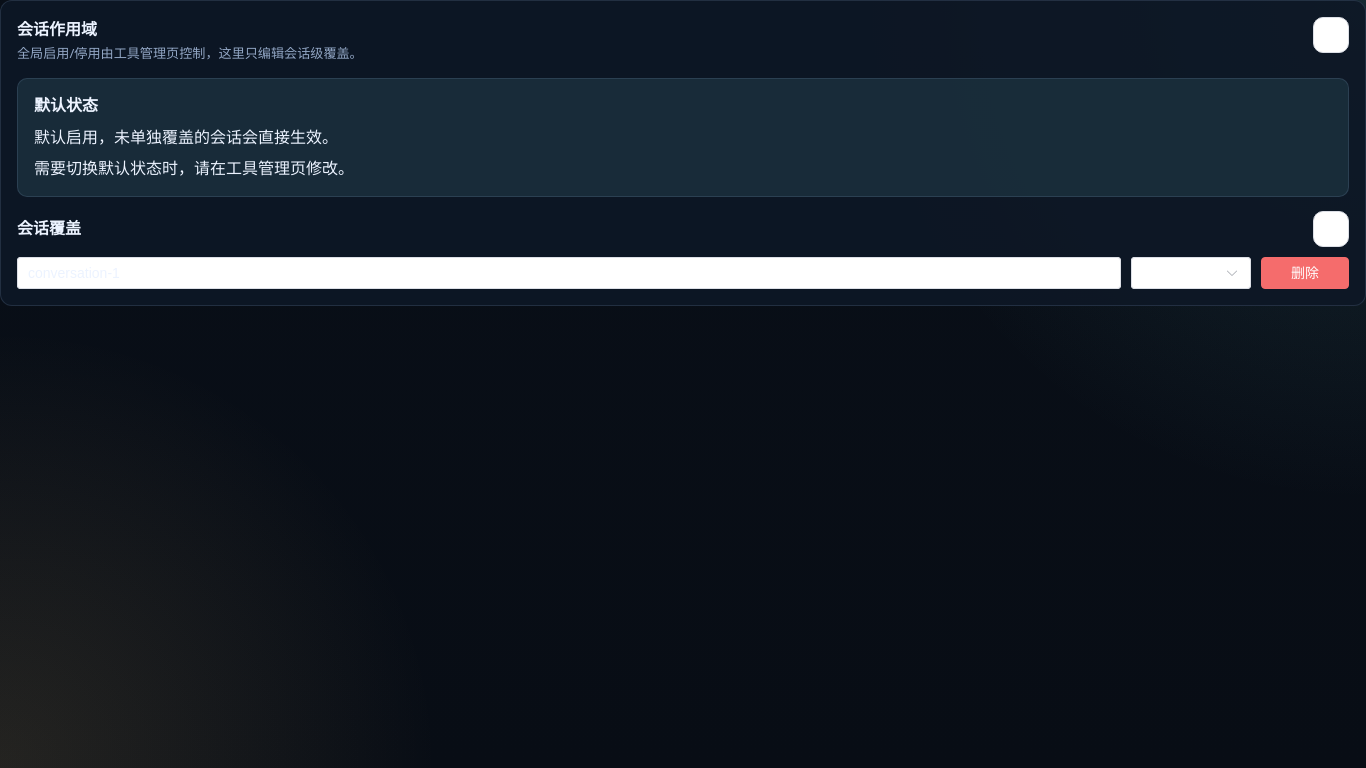
Test: PluginScopeEditor › blocks save when conversation override ids are duplicated
The width and height of the screenshot is (1366, 768).
Click the button with test id "scope-add-row-button" at (1331, 229), box [1313,211,1349,247]
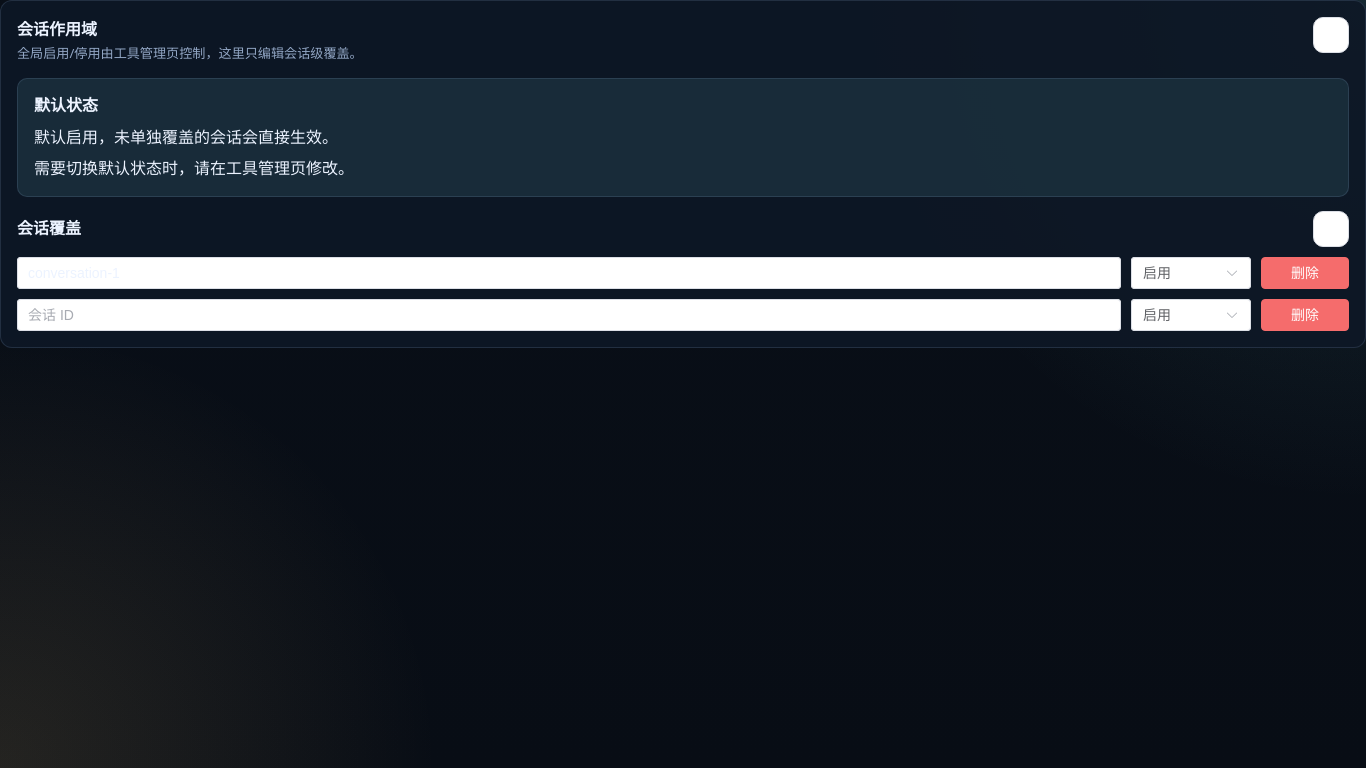
Type "conversation-1" into the field with placeholder "会话 ID" at (569, 315), box [28,300,1110,330]
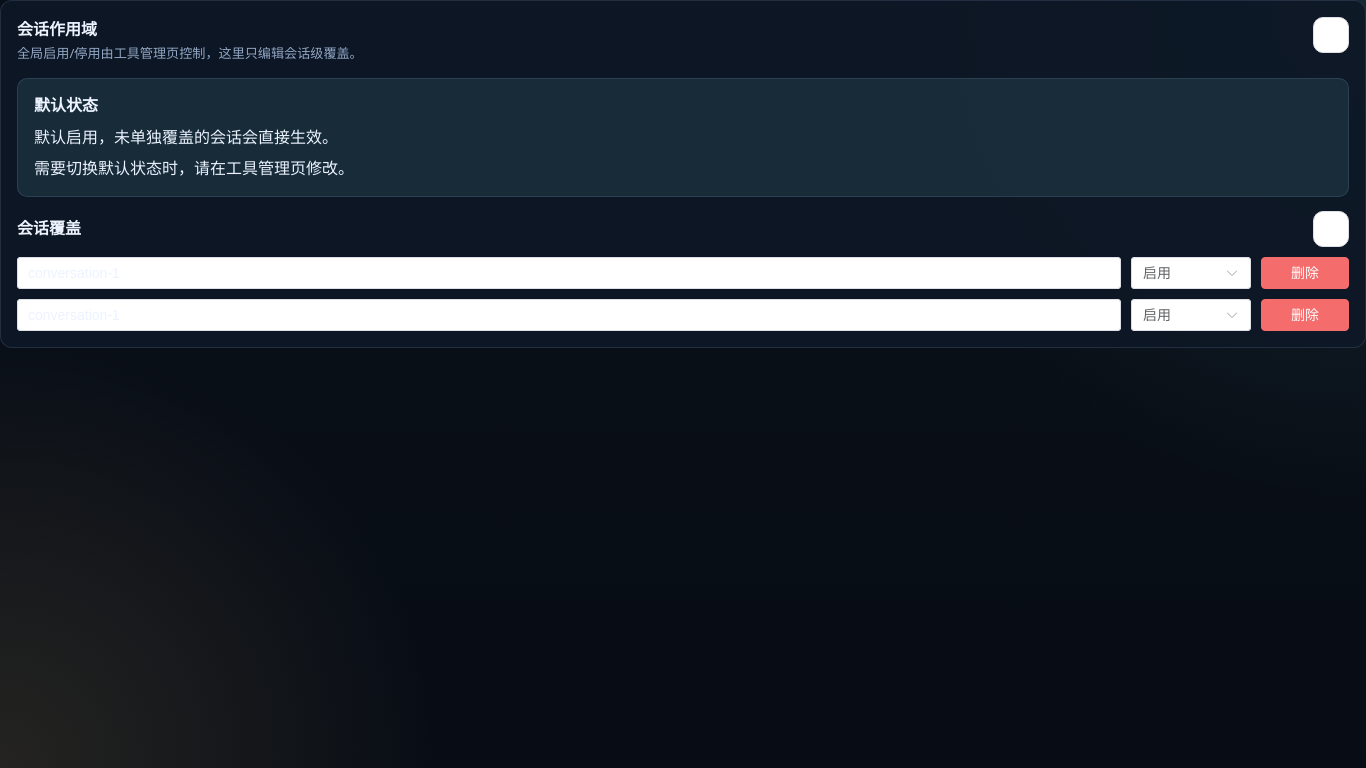
Click the button with test id "scope-save-button" at (1331, 35), box [1313,17,1349,53]
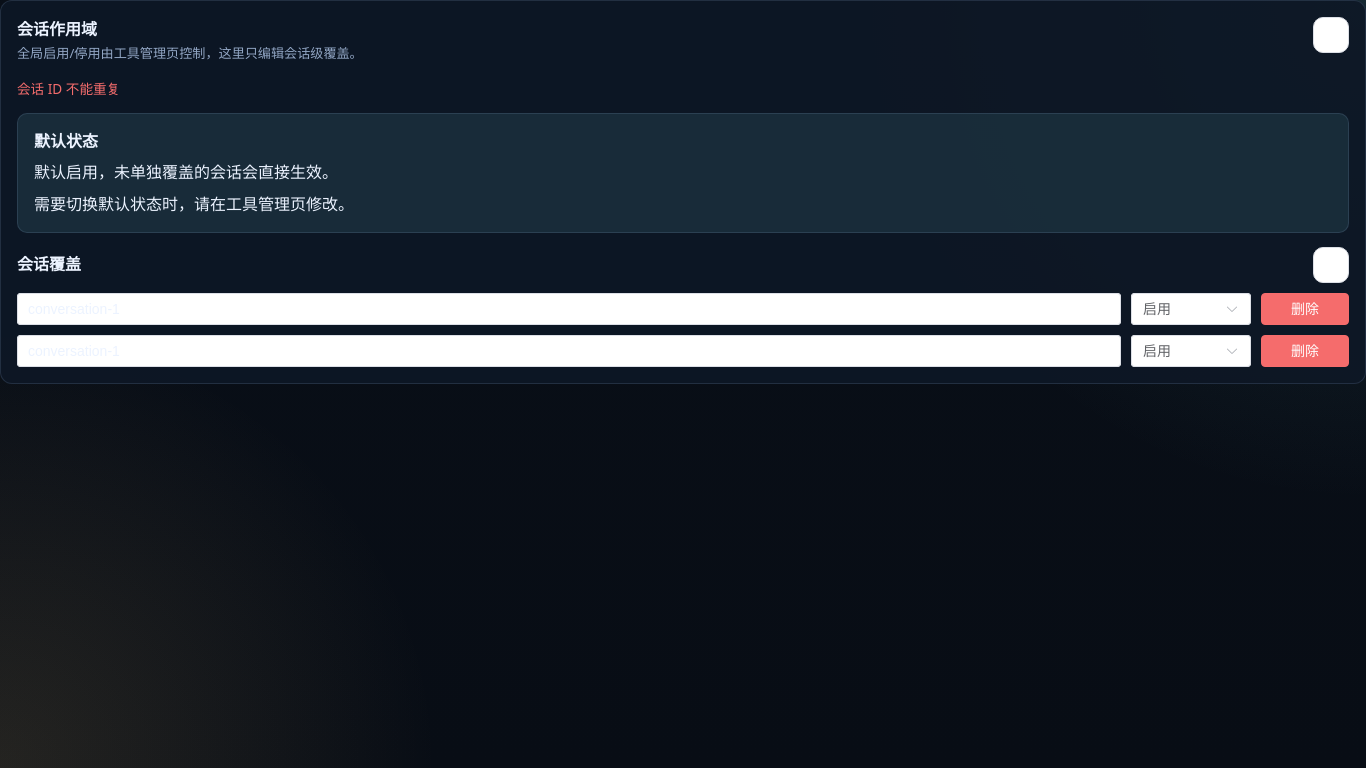
Result: the text "会话 ID 不能重复" is shown at [17,79,120,98]
